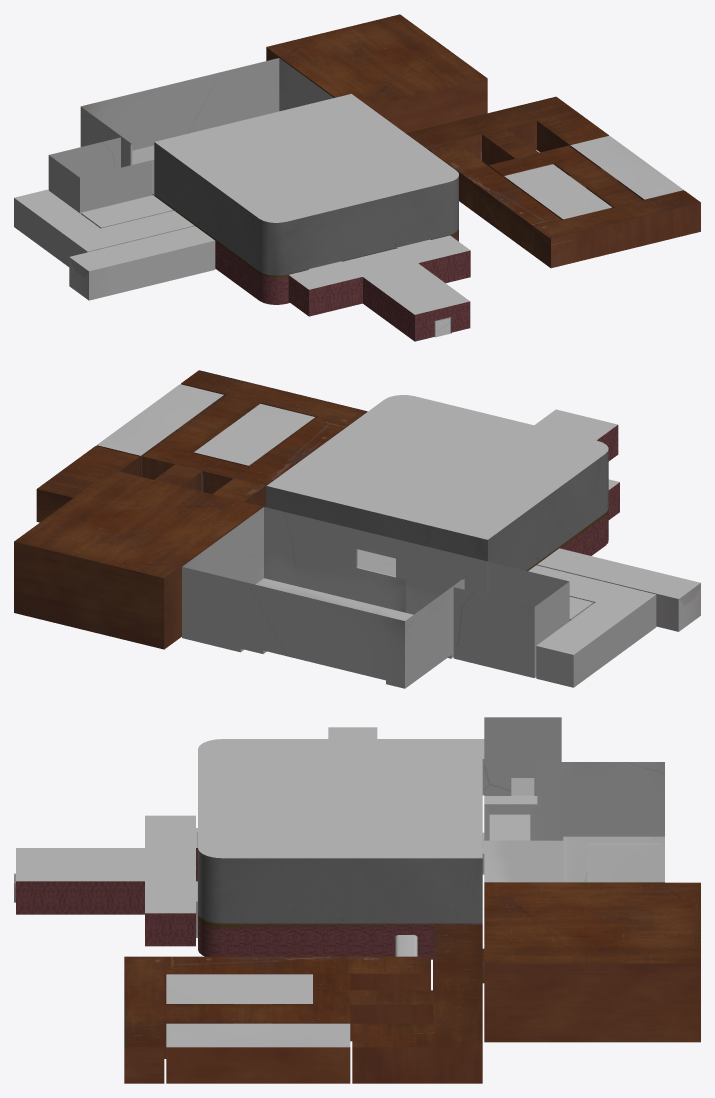
The model's file is Sanka Ati_R24.fbx.
The picture shows the model from 3 angles, top to bottom: view 1: azimuth 30°, elevation 25°; view 2: azimuth 150°, elevation 25°; view 3: azimuth 270°, elevation 25°; orthographic projection. The views are drawn at different scales.
Visible parts, largest first — view 1: Roof, Wall; view 2: Wall, Roof; view 3: Wall, Roof.
Part boxes in pixels (left/top/right/bottom): Roof: left=14, top=14, right=700, bottom=314; Wall: left=14, top=47, right=700, bottom=341; Wall: left=14, top=383, right=700, bottom=688; Roof: left=14, top=370, right=700, bottom=654; Wall: left=14, top=717, right=700, bottom=1083; Roof: left=16, top=727, right=700, bottom=1047.
Bounding box in the file's own units: 75.74 × 68.7 × 11.21.
2 materials, 2 textured.
